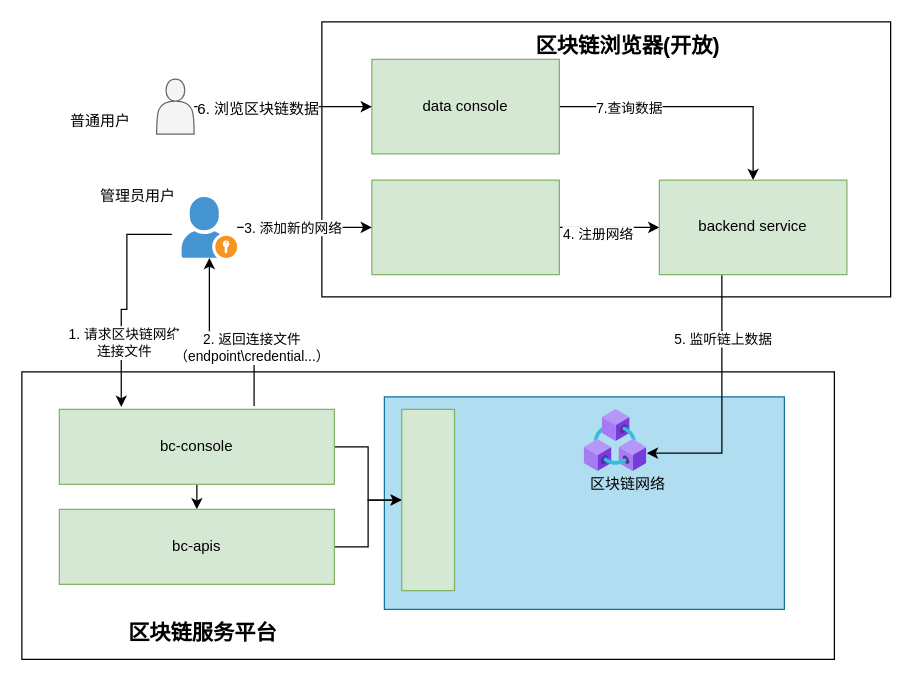
This 913x681 diagram has some shape labels left out. Here are the shapes that lost their labels. From the top down, the centre of each, then its label:
[465,227]: management console
[427,499]: K8S API
